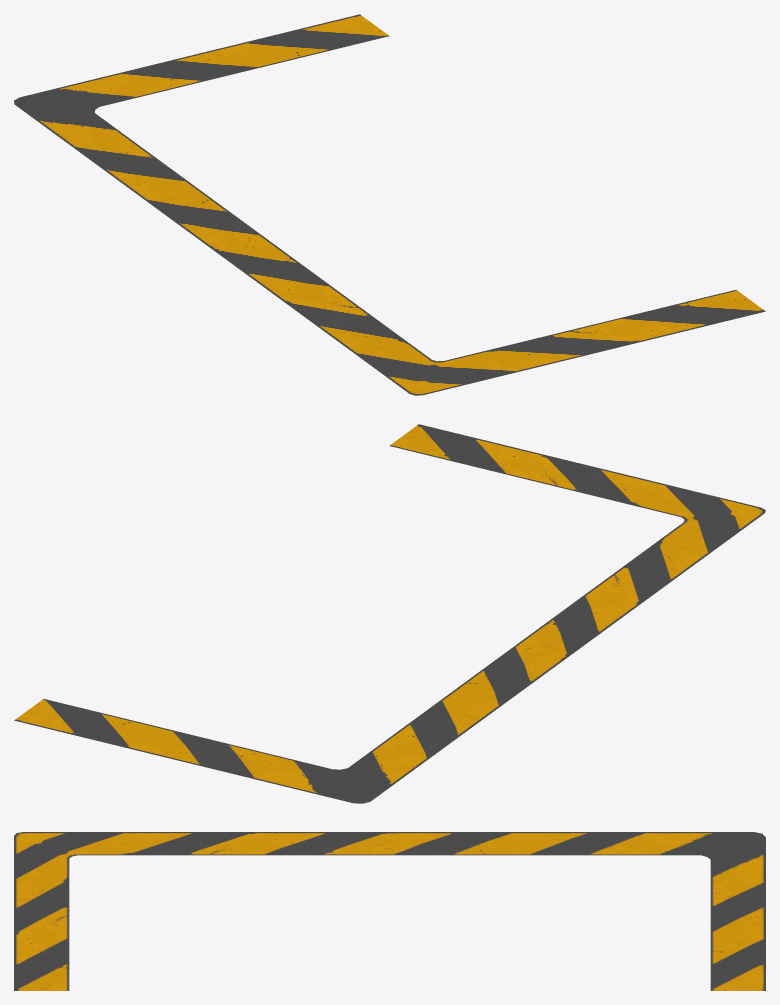
The model's file is SM_FloorDecal_QuadWarn2x003.FBX.
The picture shows the model from 3 angles, top to bottom: view 1: azimuth 30°, elevation 25°; view 2: azimuth 150°, elevation 25°; view 3: azimuth 270°, elevation 25°; orthographic projection. The views are drawn at different scales.
Parts seen in each view (by area): view 1: SM_FloorDecal_QuadWarn2x003; view 2: SM_FloorDecal_QuadWarn2x003; view 3: SM_FloorDecal_QuadWarn2x003.
Part boxes in pixels (bbox=[...]): SM_FloorDecal_QuadWarn2x003: bbox=[14, 14, 765, 395]; SM_FloorDecal_QuadWarn2x003: bbox=[14, 424, 765, 803]; SM_FloorDecal_QuadWarn2x003: bbox=[14, 832, 765, 990].
Size of the model in its own units: 108 by 215 by 3.64e-12.
